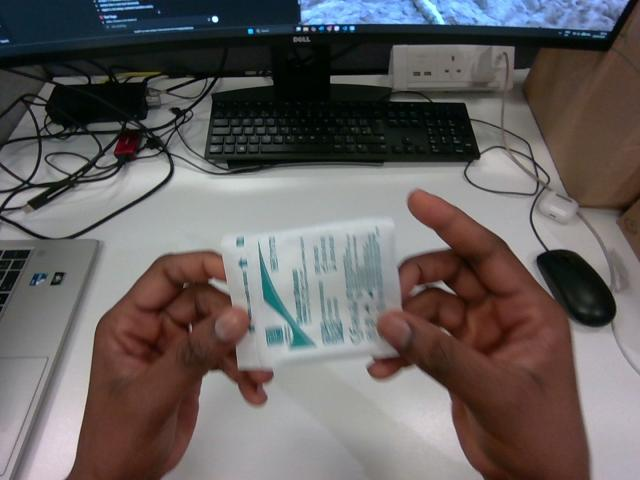gauze: (222, 218, 400, 369)
